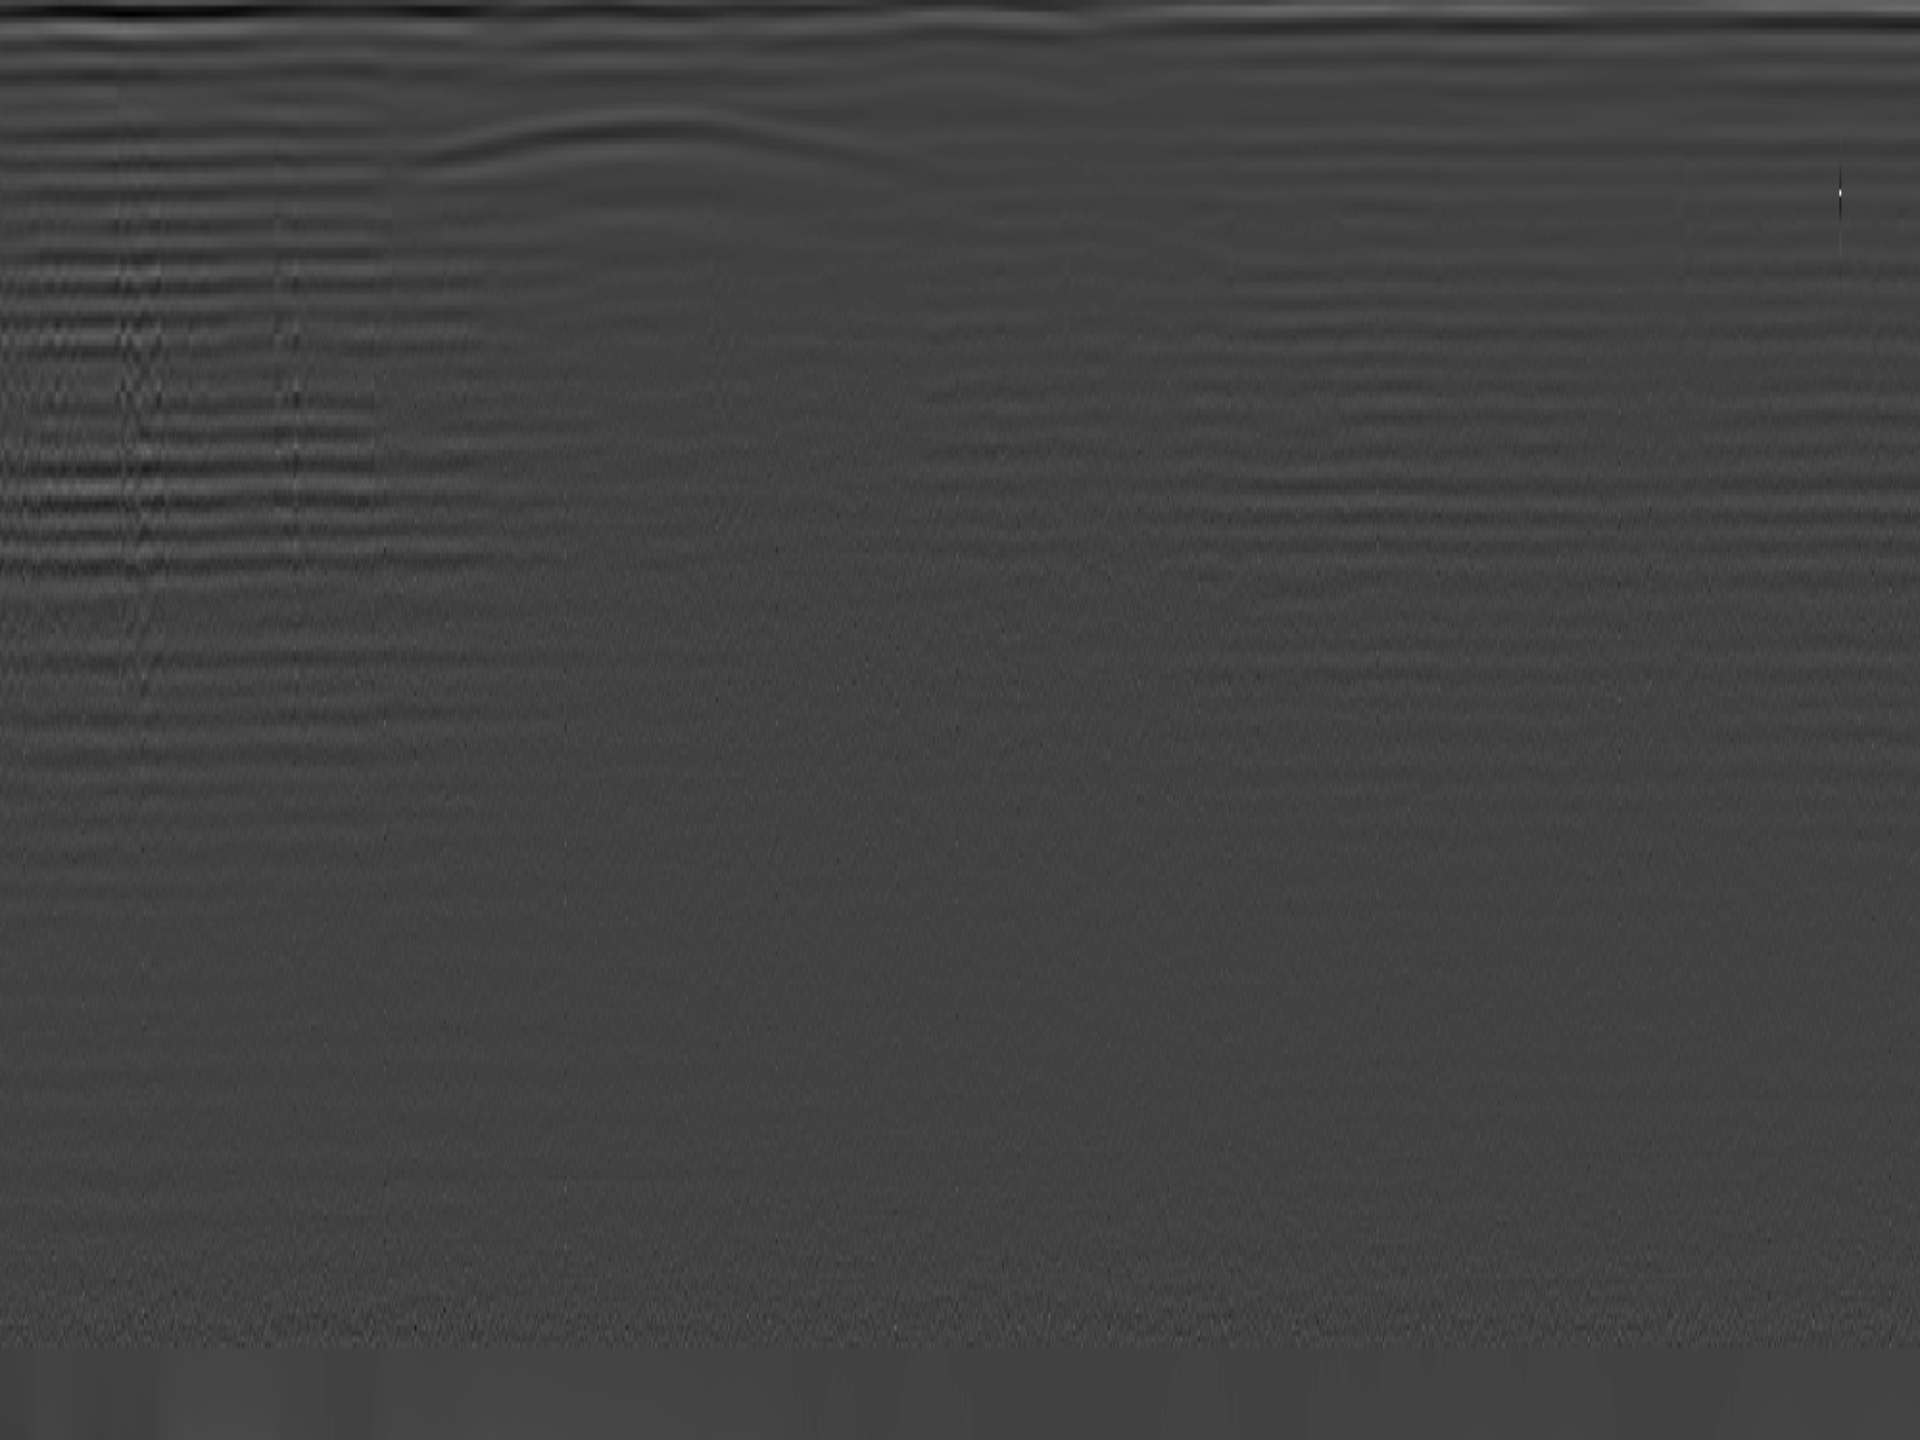Tunnel: (399, 106, 948, 182)
